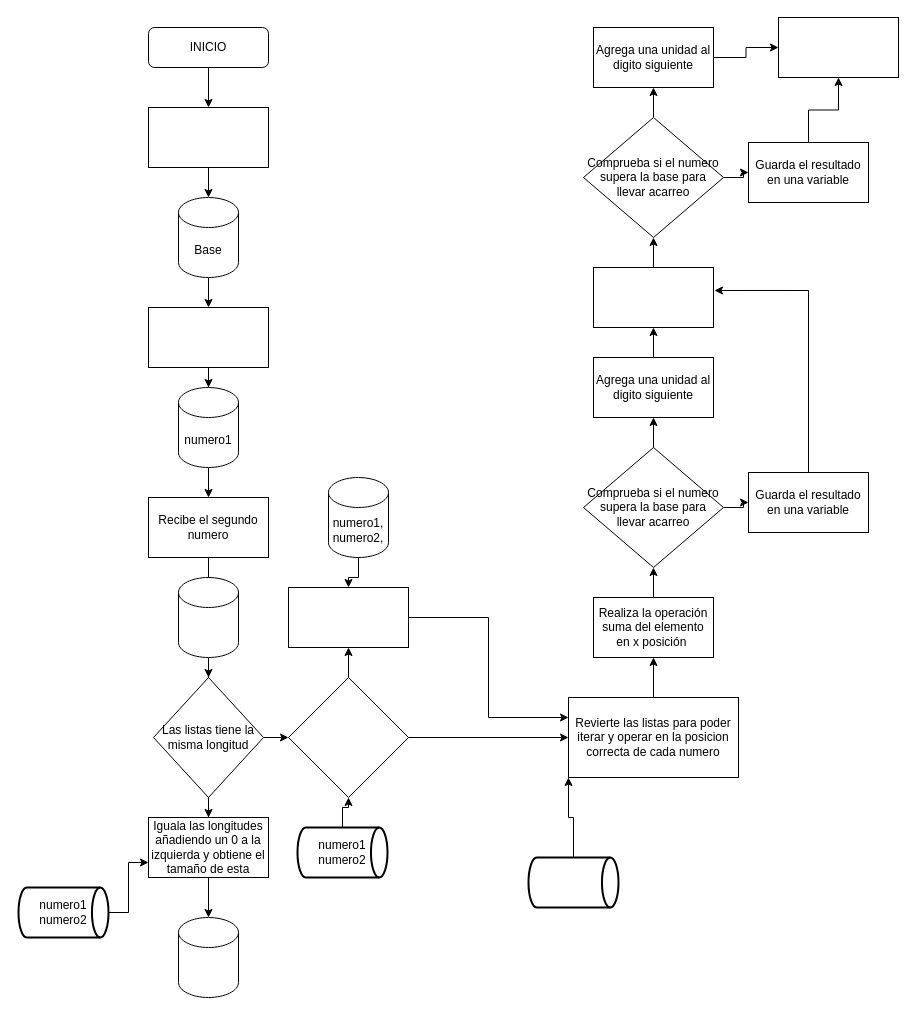
The diagram is 916 pixels wide and 1015 high, and some of its shapes have lost their labels. Here are the shapes that lost their labels. From the top down, the centre of each, then its label:
At (838,47): "Fin".
At (208,137): "Recibe la base de los numeros a operar".
At (653,297): "Realiza la operación resta del elemento en x posición".
At (208,337): "Recibe el primer numero".
At (208,617): "numero2".
At (348,617): "Altera los numeros para que el primero sea el segundo y el segundo el primero".
At (348,737): "El primer numero es mayor?".
At (573,882): "numero1 numero2, tam".
At (208,957): "numero1, numero2, tam".
